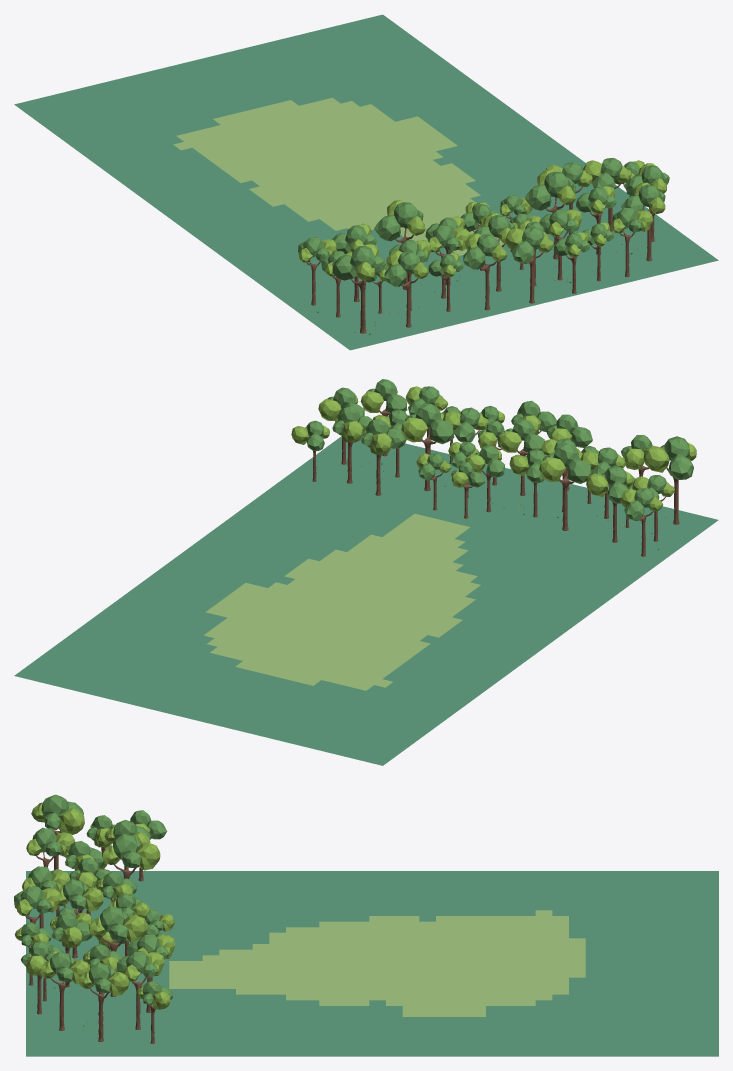
Rendered from ground211115.fbx.
3 views of the same model, one above another, from view 1: azimuth 30°, elevation 25°; view 2: azimuth 150°, elevation 25°; view 3: azimuth 270°, elevation 25° (orthographic). The views are drawn at different scales.
Parts seen in each view (by area): view 1: background.001, tree_leaf02.183, tree_leaf02.194, tree_leaf02.182, tree_leaf02.206, tree_leaf02.189, tree_leaf02.190, tree_leaf02.198, tree_leaf02.195, tree_leaf02.204, tree_leaf02.197, tree_leaf02.209 (+12 smaller); view 2: background.001, tree_leaf02.183, tree_leaf02.182, tree_leaf02.194, tree_leaf02.185, tree_leaf02.199, tree_leaf02.186, tree_leaf02.203, tree_leaf02.198, tree_leaf02.195, tree_leaf02.192, tree_leaf02.197 (+11 smaller); view 3: background.001, tree_leaf02.182, tree_leaf02.183, tree_leaf02.194, tree_leaf02.200, tree_leaf02.195, tree_leaf02.198, tree_leaf02.186, tree_leaf02.206, tree_leaf02.190, tree_leaf02.197, tree_leaf02.201 (+13 smaller).
Part boxes in pixels (x1,y1,x2,y2): background.001: (14, 14, 718, 350); tree_leaf02.183: (332, 243, 386, 333); tree_leaf02.194: (524, 169, 576, 259); tree_leaf02.182: (374, 200, 425, 289); tree_leaf02.206: (505, 227, 553, 303); tree_leaf02.189: (463, 233, 507, 310); tree_leaf02.190: (384, 250, 428, 327); tree_leaf02.198: (583, 158, 631, 232); tree_leaf02.195: (621, 182, 665, 261); tree_leaf02.204: (611, 207, 652, 277); tree_leaf02.197: (539, 209, 582, 280); tree_leaf02.209: (428, 225, 470, 298); background.001: (14, 436, 718, 765); tree_leaf02.183: (643, 436, 696, 524); tree_leaf02.182: (539, 442, 591, 530); tree_leaf02.194: (401, 403, 454, 491); tree_leaf02.185: (586, 465, 633, 542); tree_leaf02.199: (361, 418, 406, 495); tree_leaf02.186: (498, 419, 544, 495); tree_leaf02.203: (620, 488, 663, 556); tree_leaf02.198: (332, 406, 372, 483); tree_leaf02.195: (360, 379, 407, 456); tree_leaf02.192: (465, 445, 504, 512); tree_leaf02.197: (443, 407, 488, 442); background.001: (26, 871, 718, 1056); tree_leaf02.182: (102, 834, 160, 878); tree_leaf02.183: (31, 794, 84, 869); tree_leaf02.194: (89, 906, 147, 996); tree_leaf02.200: (78, 962, 129, 1041); tree_leaf02.195: (40, 951, 90, 1030); tree_leaf02.198: (117, 951, 164, 1029); tree_leaf02.186: (57, 879, 103, 958); tree_leaf02.206: (14, 886, 60, 946); tree_leaf02.190: (26, 827, 75, 867); tree_leaf02.197: (51, 913, 92, 987); tree_leaf02.201: (136, 980, 173, 1043).
Bounding box in the file's own units: 16536 × 3709 × 26543.
